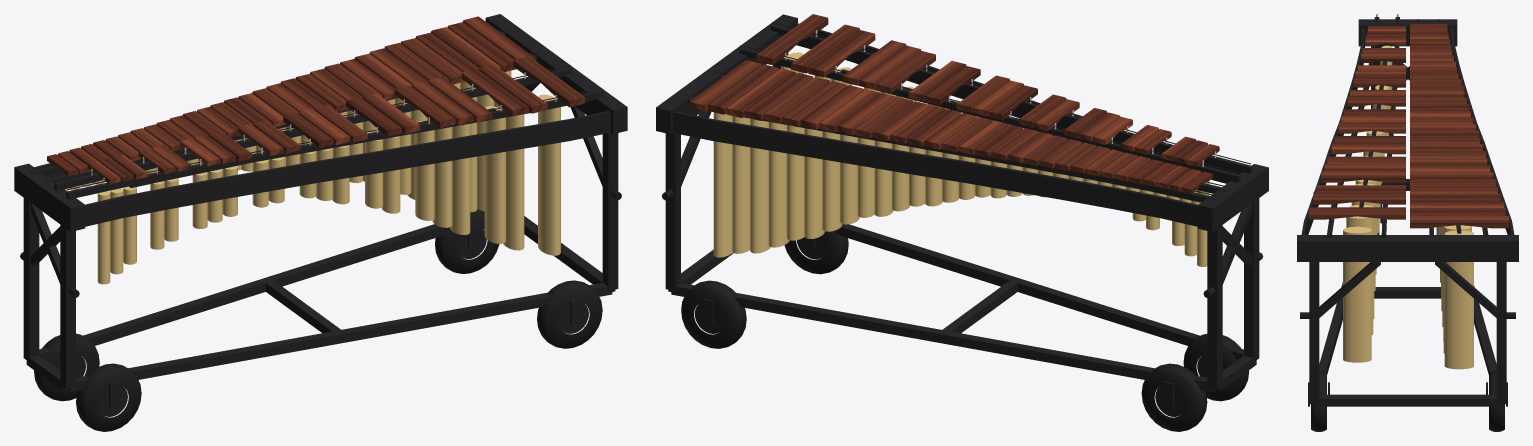
The model's file is marimba-4.3.glb.
The picture shows the model from 3 angles, left to right: view 1: azimuth 30°, elevation 25°; view 2: azimuth 150°, elevation 25°; view 3: azimuth 270°, elevation 25°; orthographic projection. The views are drawn at different scales.
Visible parts, largest first — view 1: frame, bars-rosewood, resonators-gold, artwork, rubber; view 2: frame, bars-rosewood, resonators-gold, rubber; view 3: bars-rosewood, frame, resonators-gold, rubber.
Part boxes in pixels (bbox=[...]): frame: bbox=[14, 14, 627, 416]; bars-rosewood: bbox=[47, 16, 585, 184]; resonators-gold: bbox=[64, 70, 560, 284]; artwork: bbox=[85, 112, 610, 226]; rubber: bbox=[20, 27, 621, 431]; frame: bbox=[656, 14, 1268, 416]; bars-rosewood: bbox=[688, 14, 1219, 193]; resonators-gold: bbox=[713, 52, 1209, 266]; rubber: bbox=[662, 22, 1263, 431]; bars-rosewood: bbox=[1308, 23, 1508, 228]; frame: bbox=[1297, 17, 1518, 406]; resonators-gold: bbox=[1343, 45, 1473, 369]; rubber: bbox=[1300, 14, 1515, 431].
Size of the model in its own units: 2.13 by 0.982 by 0.8992.
Materials: 6 (1 with a texture image).
